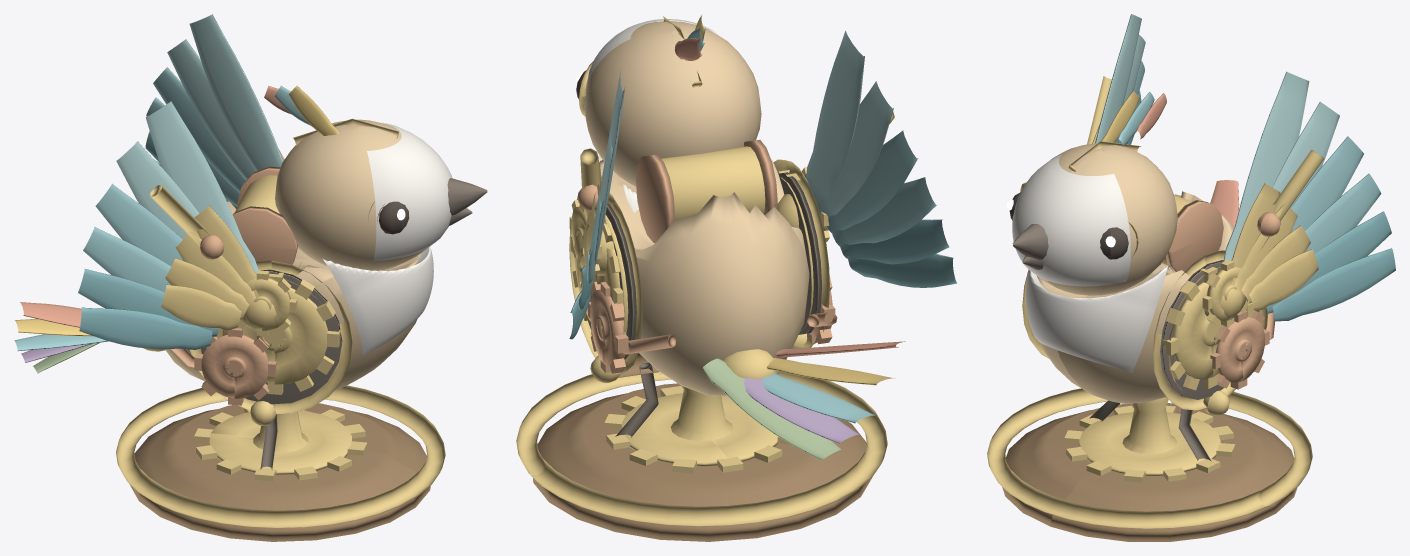
File: mechanical_bird.glb
3 views of the same model, side by side, from view 1: azimuth 30°, elevation 25°; view 2: azimuth 150°, elevation 25°; view 3: azimuth 270°, elevation 25° (orthographic). The views are drawn at different scales.
Visible parts, largest first — view 1: WingPivot_Left, Scaffold, Part_Melody, Part_Core, WingPivot_Right, Plumage_Ring, BirdGear_Left_Main, BirdGear_Left_Sub, Melody_Drum, Plumage_Tail, Plumage_Crest; view 2: Part_Core, Scaffold, WingPivot_Left, Part_Melody, Plumage_Ring, Plumage_Tail, Melody_Drum, WingPivot_Right, BirdGear_Right_Sub, BirdGear_Right_Main, Plumage_Crest, BirdGear_Left_Sub; view 3: Scaffold, WingPivot_Right, Part_Melody, Part_Core, Plumage_Ring, BirdGear_Right_Main, WingPivot_Left, BirdGear_Right_Sub, Melody_Drum, Plumage_Crest, Plumage_Tail.
Boxes of the visible parts, box(x1,y1,x2,y2) form: WingPivot_Left: box(78, 101, 297, 349); Scaffold: box(129, 401, 430, 541); Part_Melody: box(275, 118, 487, 270); Part_Core: box(165, 201, 433, 414); WingPivot_Right: box(145, 14, 284, 208); Plumage_Ring: box(116, 385, 445, 527); BirdGear_Left_Main: box(216, 272, 340, 394); BirdGear_Left_Sub: box(194, 328, 276, 405); Melody_Drum: box(232, 166, 297, 264); Plumage_Tail: box(14, 302, 164, 373); Plumage_Crest: box(264, 86, 338, 135); Part_Core: box(569, 155, 837, 395); Scaffold: box(533, 333, 872, 541); WingPivot_Left: box(777, 30, 956, 287); Part_Melody: box(576, 16, 761, 186); Plumage_Ring: box(516, 371, 887, 526); Plumage_Tail: box(702, 341, 905, 460); Melody_Drum: box(636, 140, 777, 242); WingPivot_Right: box(569, 69, 625, 339); BirdGear_Right_Sub: box(588, 281, 628, 373); BirdGear_Right_Main: box(570, 222, 623, 334); Plumage_Crest: box(675, 14, 705, 60); BirdGear_Left_Sub: box(807, 276, 835, 344); Scaffold: box(1002, 390, 1297, 541); WingPivot_Right: box(1202, 71, 1395, 326); Part_Melody: box(1007, 141, 1177, 295); Part_Core: box(1022, 191, 1275, 410); Plumage_Ring: box(987, 388, 1312, 528); BirdGear_Right_Main: box(1162, 267, 1255, 390); WingPivot_Left: box(1087, 14, 1145, 144); BirdGear_Right_Sub: box(1210, 310, 1269, 389); Melody_Drum: box(1161, 195, 1223, 272); Plumage_Crest: box(1101, 91, 1166, 145); Plumage_Tail: box(1210, 180, 1239, 226).
Size of the model in its own units: 1.28 by 1.37 by 1.25.
